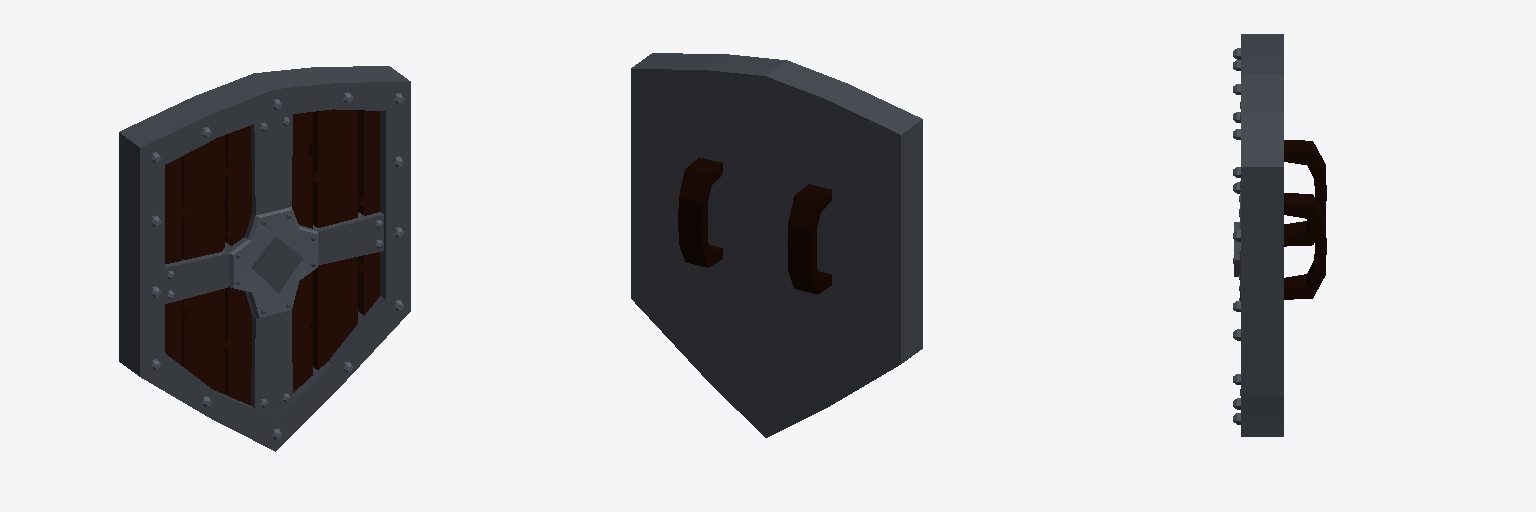
Rendered from Shield_Heater.obj.
3 renders of one model, left to right at view 1: azimuth 30°, elevation 25°; view 2: azimuth 150°, elevation 25°; view 3: azimuth 270°, elevation 25°, orthographic.
Parts seen in each view (by area): view 1: Shield_Heater_Cube.009; view 2: Shield_Heater_Cube.009; view 3: Shield_Heater_Cube.009.
Boxes of the visible parts, box(x1,y1,x2,y2) form: Shield_Heater_Cube.009: box(119, 66, 410, 451); Shield_Heater_Cube.009: box(631, 53, 922, 437); Shield_Heater_Cube.009: box(1233, 34, 1326, 436).
Size of the model in its own units: 2 by 2.56 by 0.597.